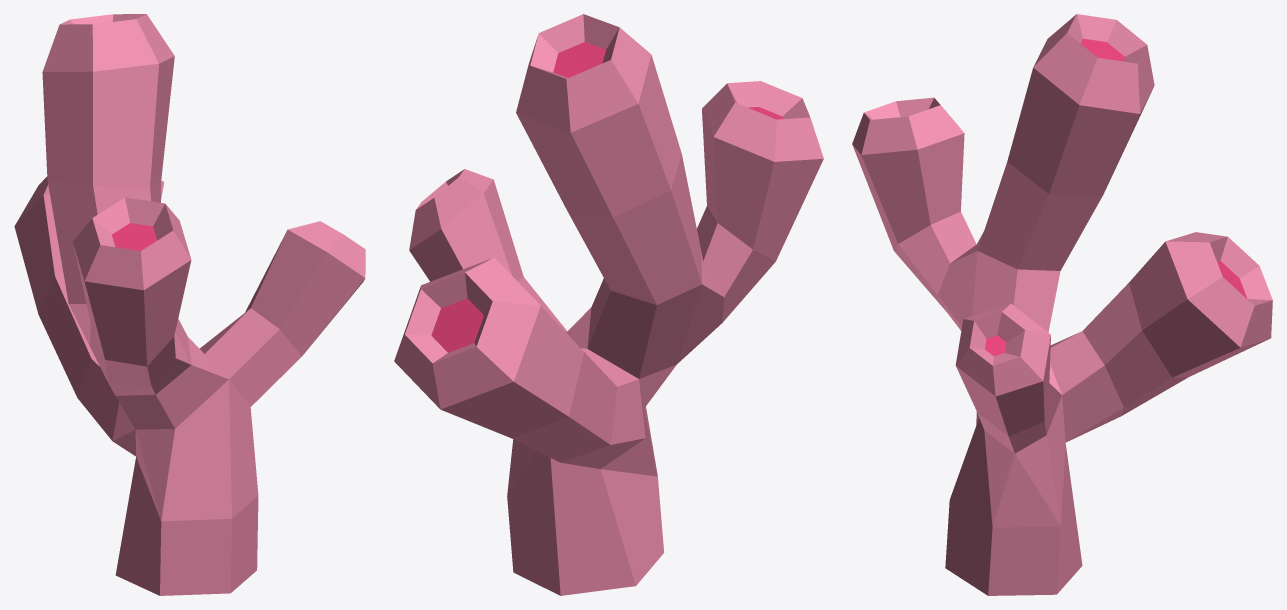
File: Coral_015.glb
3 views of the same model, side by side, from view 1: azimuth 30°, elevation 25°; view 2: azimuth 150°, elevation 25°; view 3: azimuth 270°, elevation 25° (orthographic). The views are drawn at different scales.
Parts seen in each view (by area): view 1: Coral_015; view 2: Coral_015; view 3: Coral_015.
Boxes of the visible parts, x1,y1,x2,y2 form: Coral_015: [14, 14, 365, 595]; Coral_015: [394, 14, 823, 595]; Coral_015: [852, 14, 1272, 595].
Bounding box in the file's own units: 0.2044 × 0.3233 × 0.2331.
Materials: 1 (1 with a texture image).
